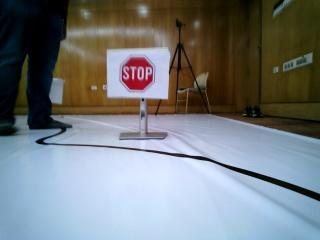stop: (112, 56, 167, 106)
